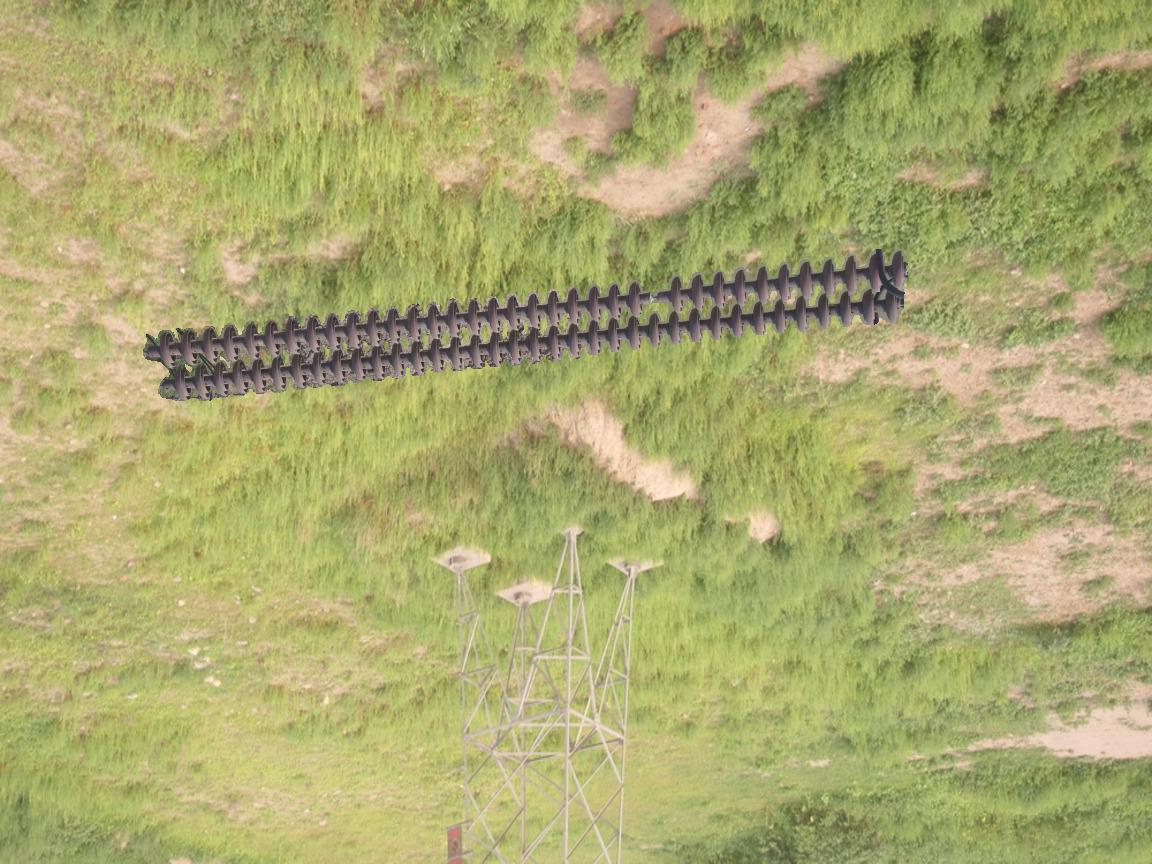insulator: (144, 244, 918, 405)
insulator_stringdrop: (625, 273, 687, 318)
